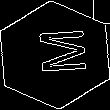M_W: (25, 30, 85, 80)
